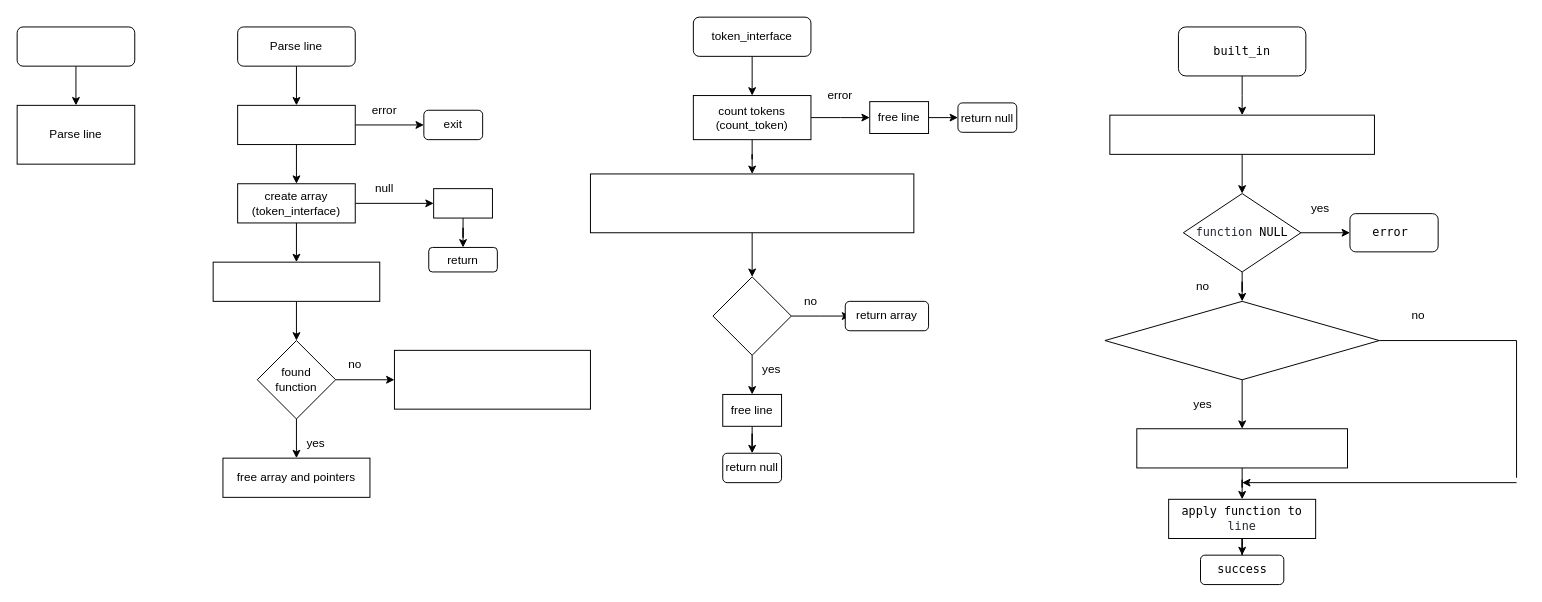
Some shapes in this 1542 by 602 pixel diagram are drawn without their labels. The centre of each missing label's shape, as x and y in pixels:
array null: (751,315)
check path and print message error (child process): (491,379)
compare " exit " with command[ 0 ]: (1241,340)
divide in arroy with all the tokens considering delimiters (tokenize): (751,203)
free array: (462,203)
free double pointer command: (1242,448)
get line: (296,124)
select the function for the command: (1241,134)
Simple Shell: (75,46)
verify the function and apply (built_in): (296,281)
